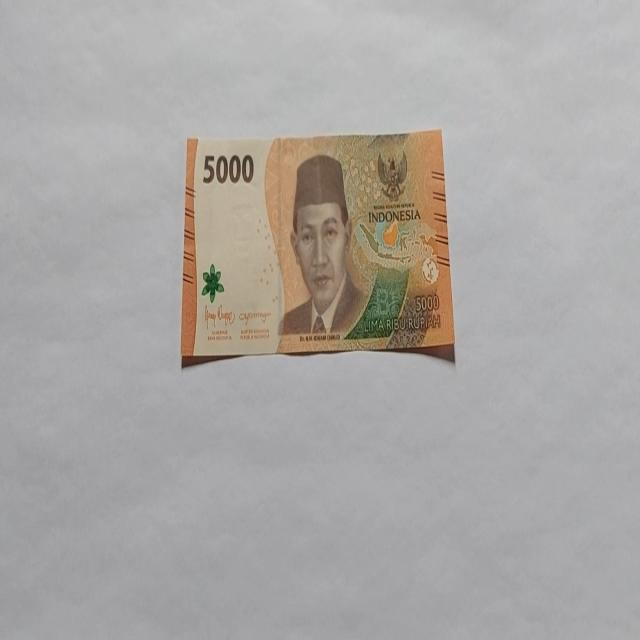lima ribu rupiah: (180, 129, 456, 367), (278, 153, 368, 337)
